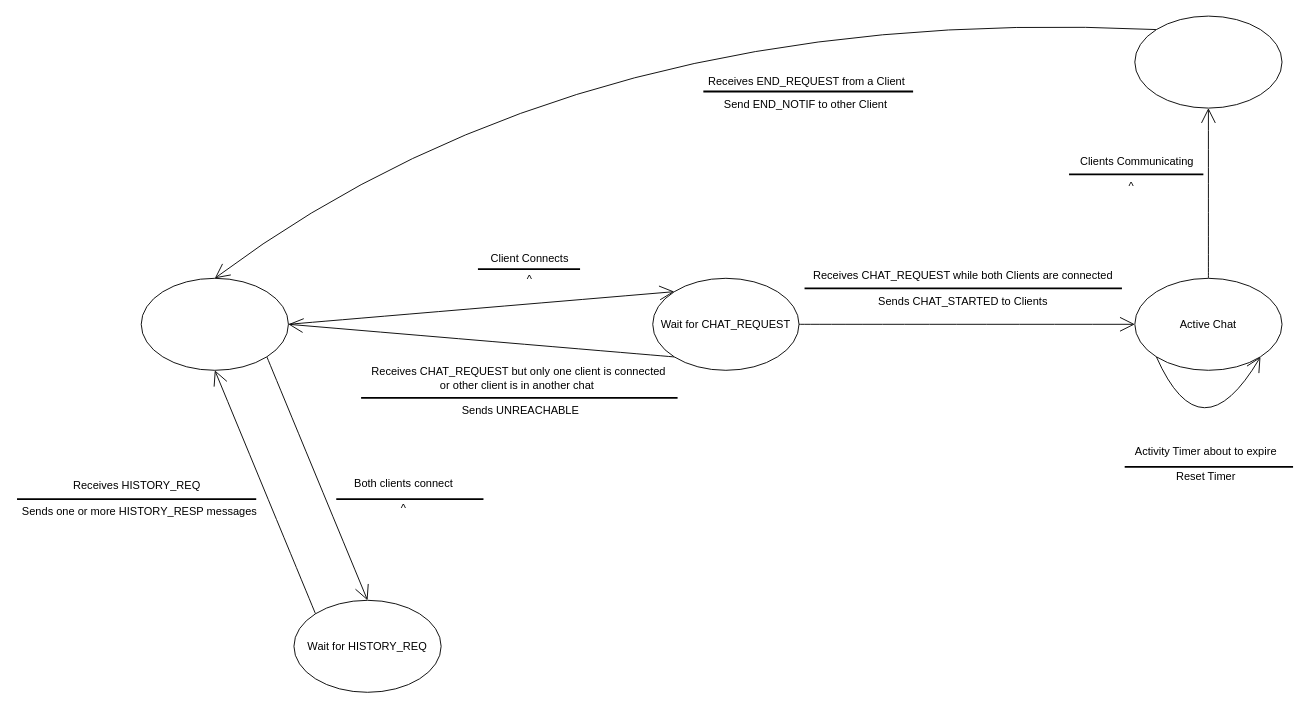
This 1309x708 diagram has some shape labels left out. Each missing label, with the centre of its shape:
"Connected" goes at point 214,323.
"Wait for END_REQUEST" goes at point 1208,61.
